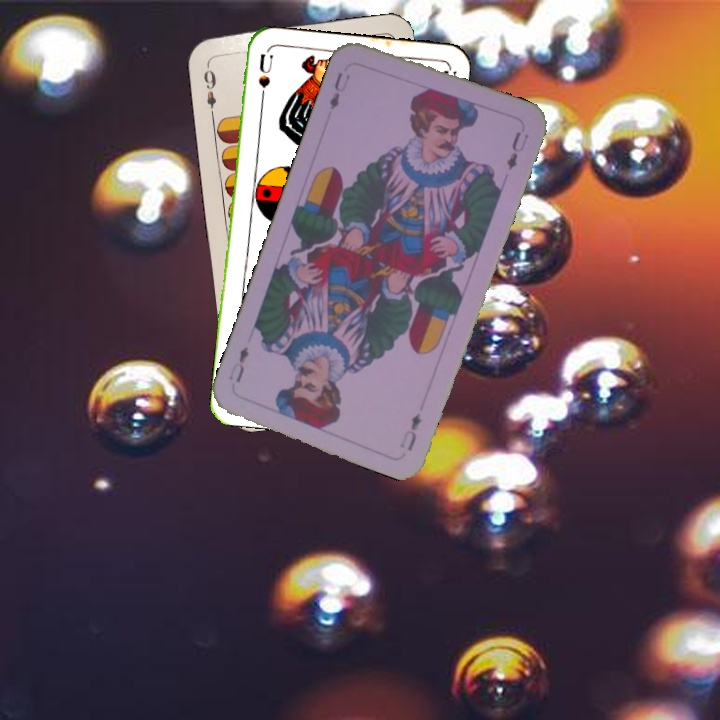E9: (199, 59, 219, 118)
EU: (395, 409, 424, 454), (325, 68, 353, 112)
SU: (254, 51, 276, 110)
